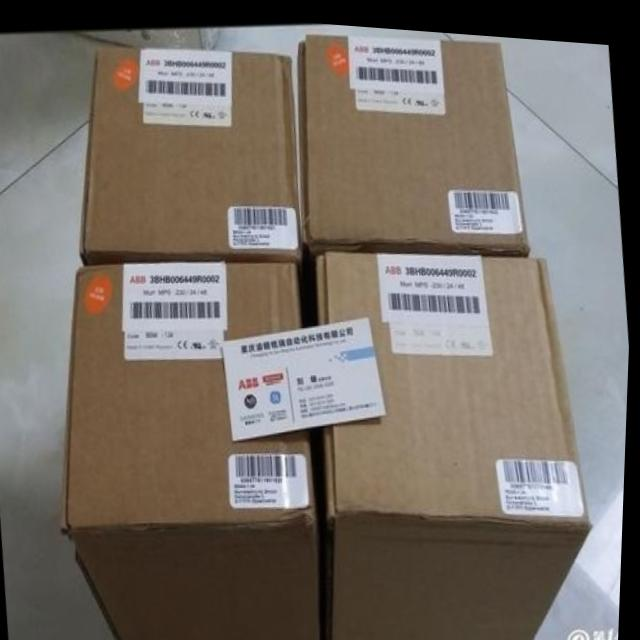box: (314, 247, 596, 640), (65, 259, 324, 640), (296, 31, 531, 251), (81, 43, 305, 262)
